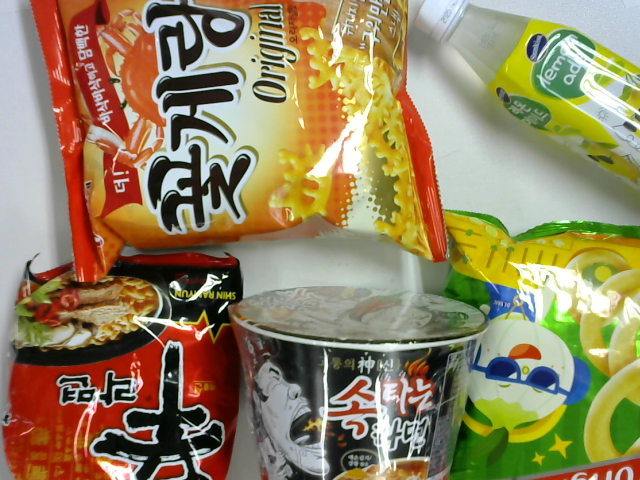Crabrang: (21, 1, 435, 280)
HeJangsock: (226, 278, 484, 480)
Oninon_Ring: (415, 198, 640, 478)
Sinramen: (14, 253, 251, 480)
Sunkist_Lemonaid_Pet: (408, 2, 640, 205)
